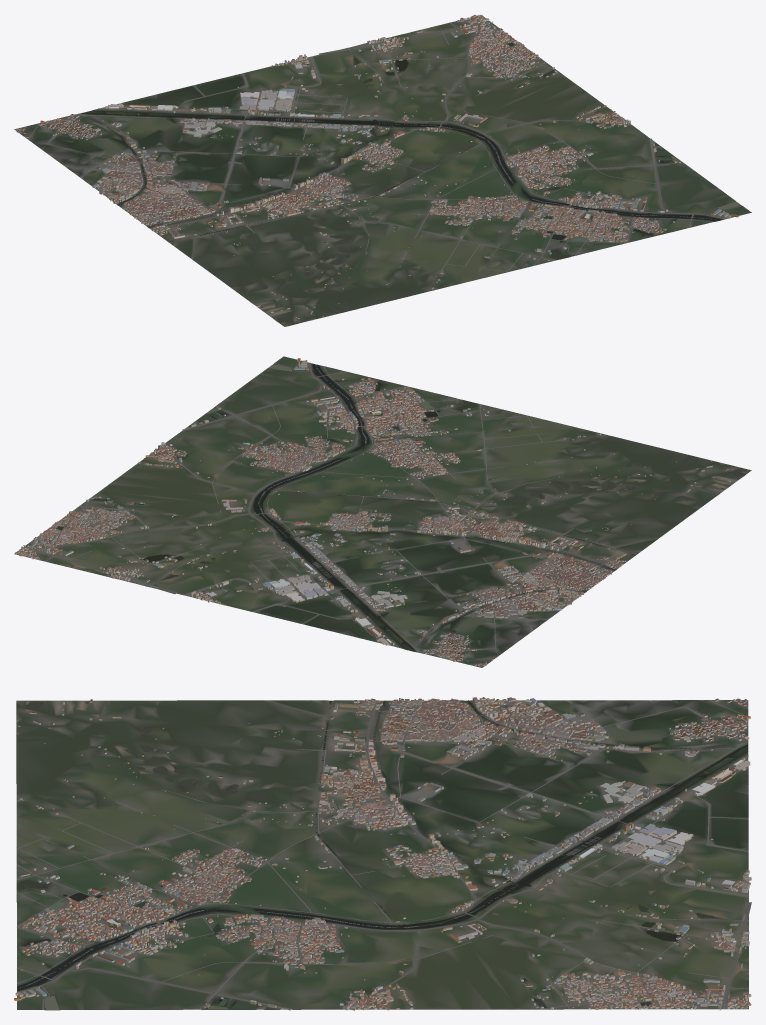
3 views of the same model, one above another, from view 1: azimuth 30°, elevation 25°; view 2: azimuth 150°, elevation 25°; view 3: azimuth 270°, elevation 25° (orthographic). The views are drawn at different scales.
Visible parts, largest first — view 1: ground, buildings, roads, water; view 2: ground, buildings, roads, water; view 3: ground, buildings, roads, water.
Boxes of the visible parts, <box> form: ground: <box>14,16,751,326</box>; buildings: <box>14,14,739,318</box>; roads: <box>21,17,741,273</box>; water: <box>81,42,740,325</box>; ground: <box>14,356,751,667</box>; buildings: <box>15,358,730,667</box>; roads: <box>16,362,621,664</box>; water: <box>56,363,746,651</box>; ground: <box>16,700,748,1010</box>; buildings: <box>14,697,751,1010</box>; roads: <box>17,700,751,1010</box>; water: <box>16,700,748,1009</box>.
Size of the model in its own units: 2825 by 30.88 by 2826.
